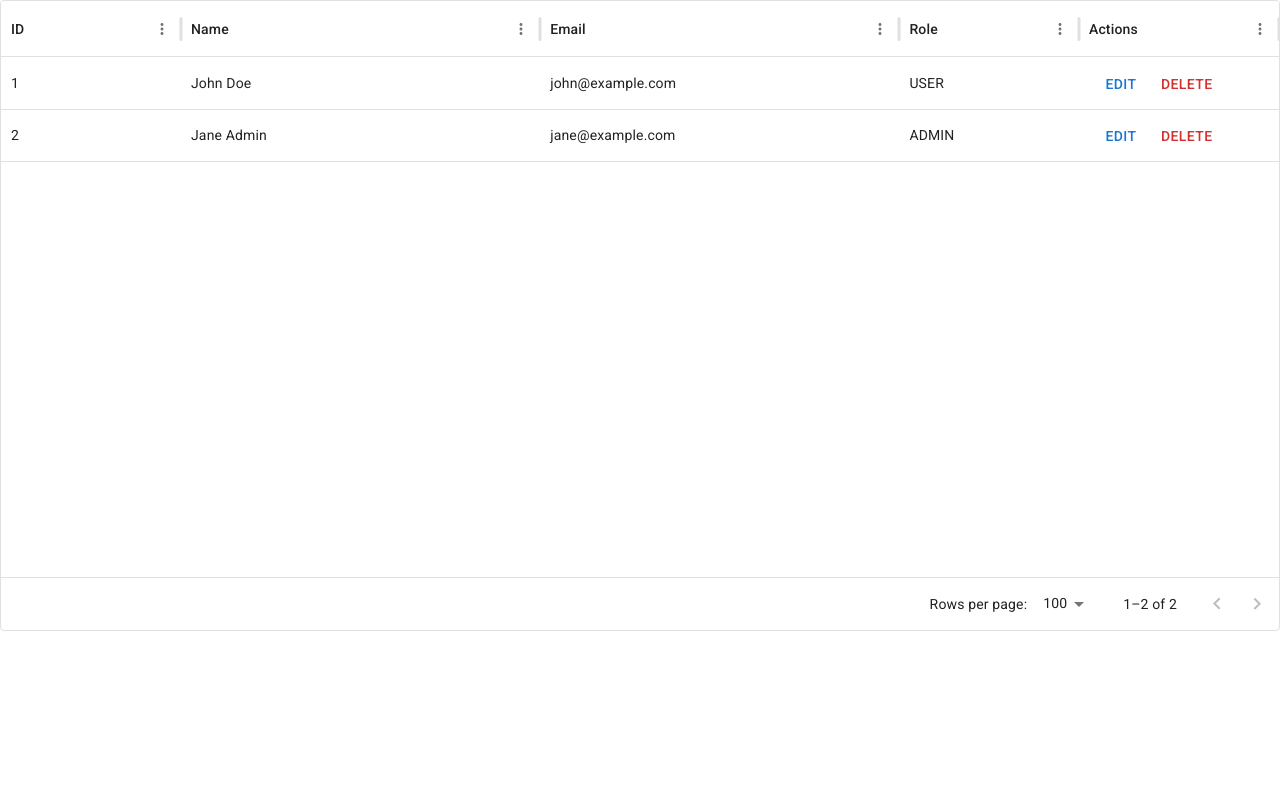
ClientTable › opens edit modal when Edit button is clicked
Step 1. Click the button "Edit" in the row of "John Doe" → [1121, 84], box [1089, 66, 1153, 102]
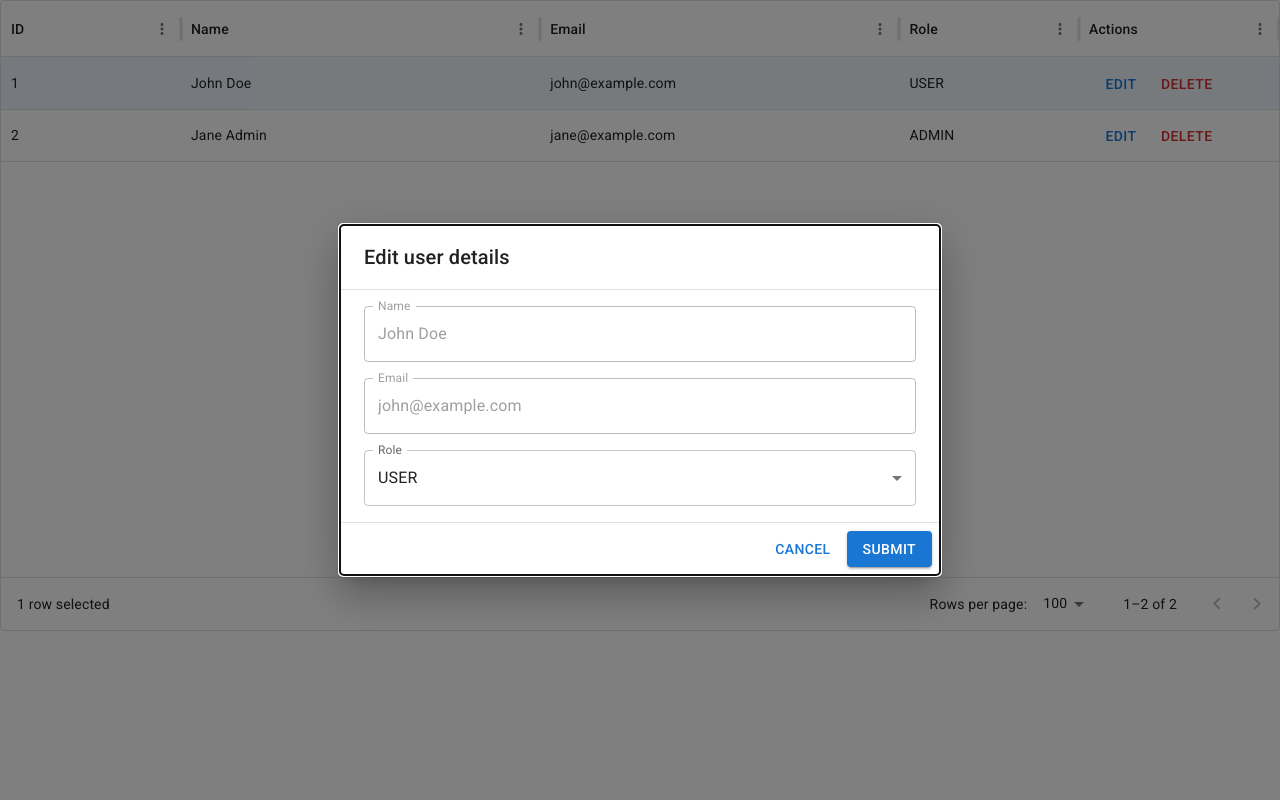
Expected: the heading "Edit user details" is shown, [364, 245, 510, 269]
Expected: the dropdown named "Role" is shown, [378, 468, 417, 487]
